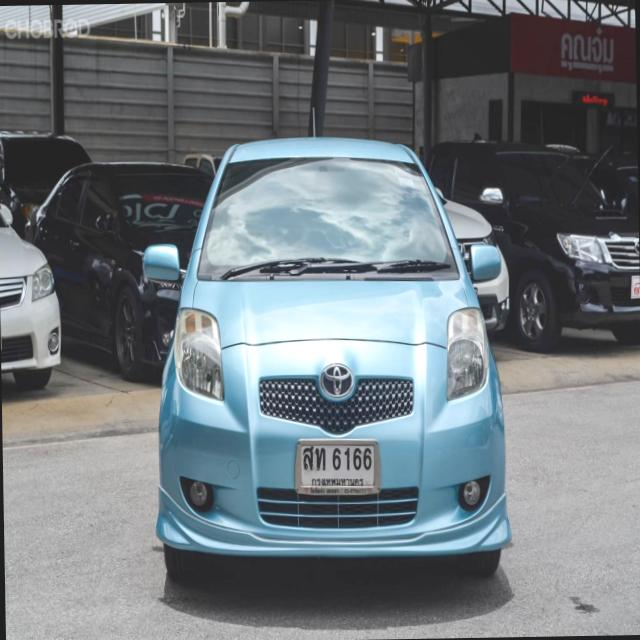license_plate: (290, 436, 382, 498)
